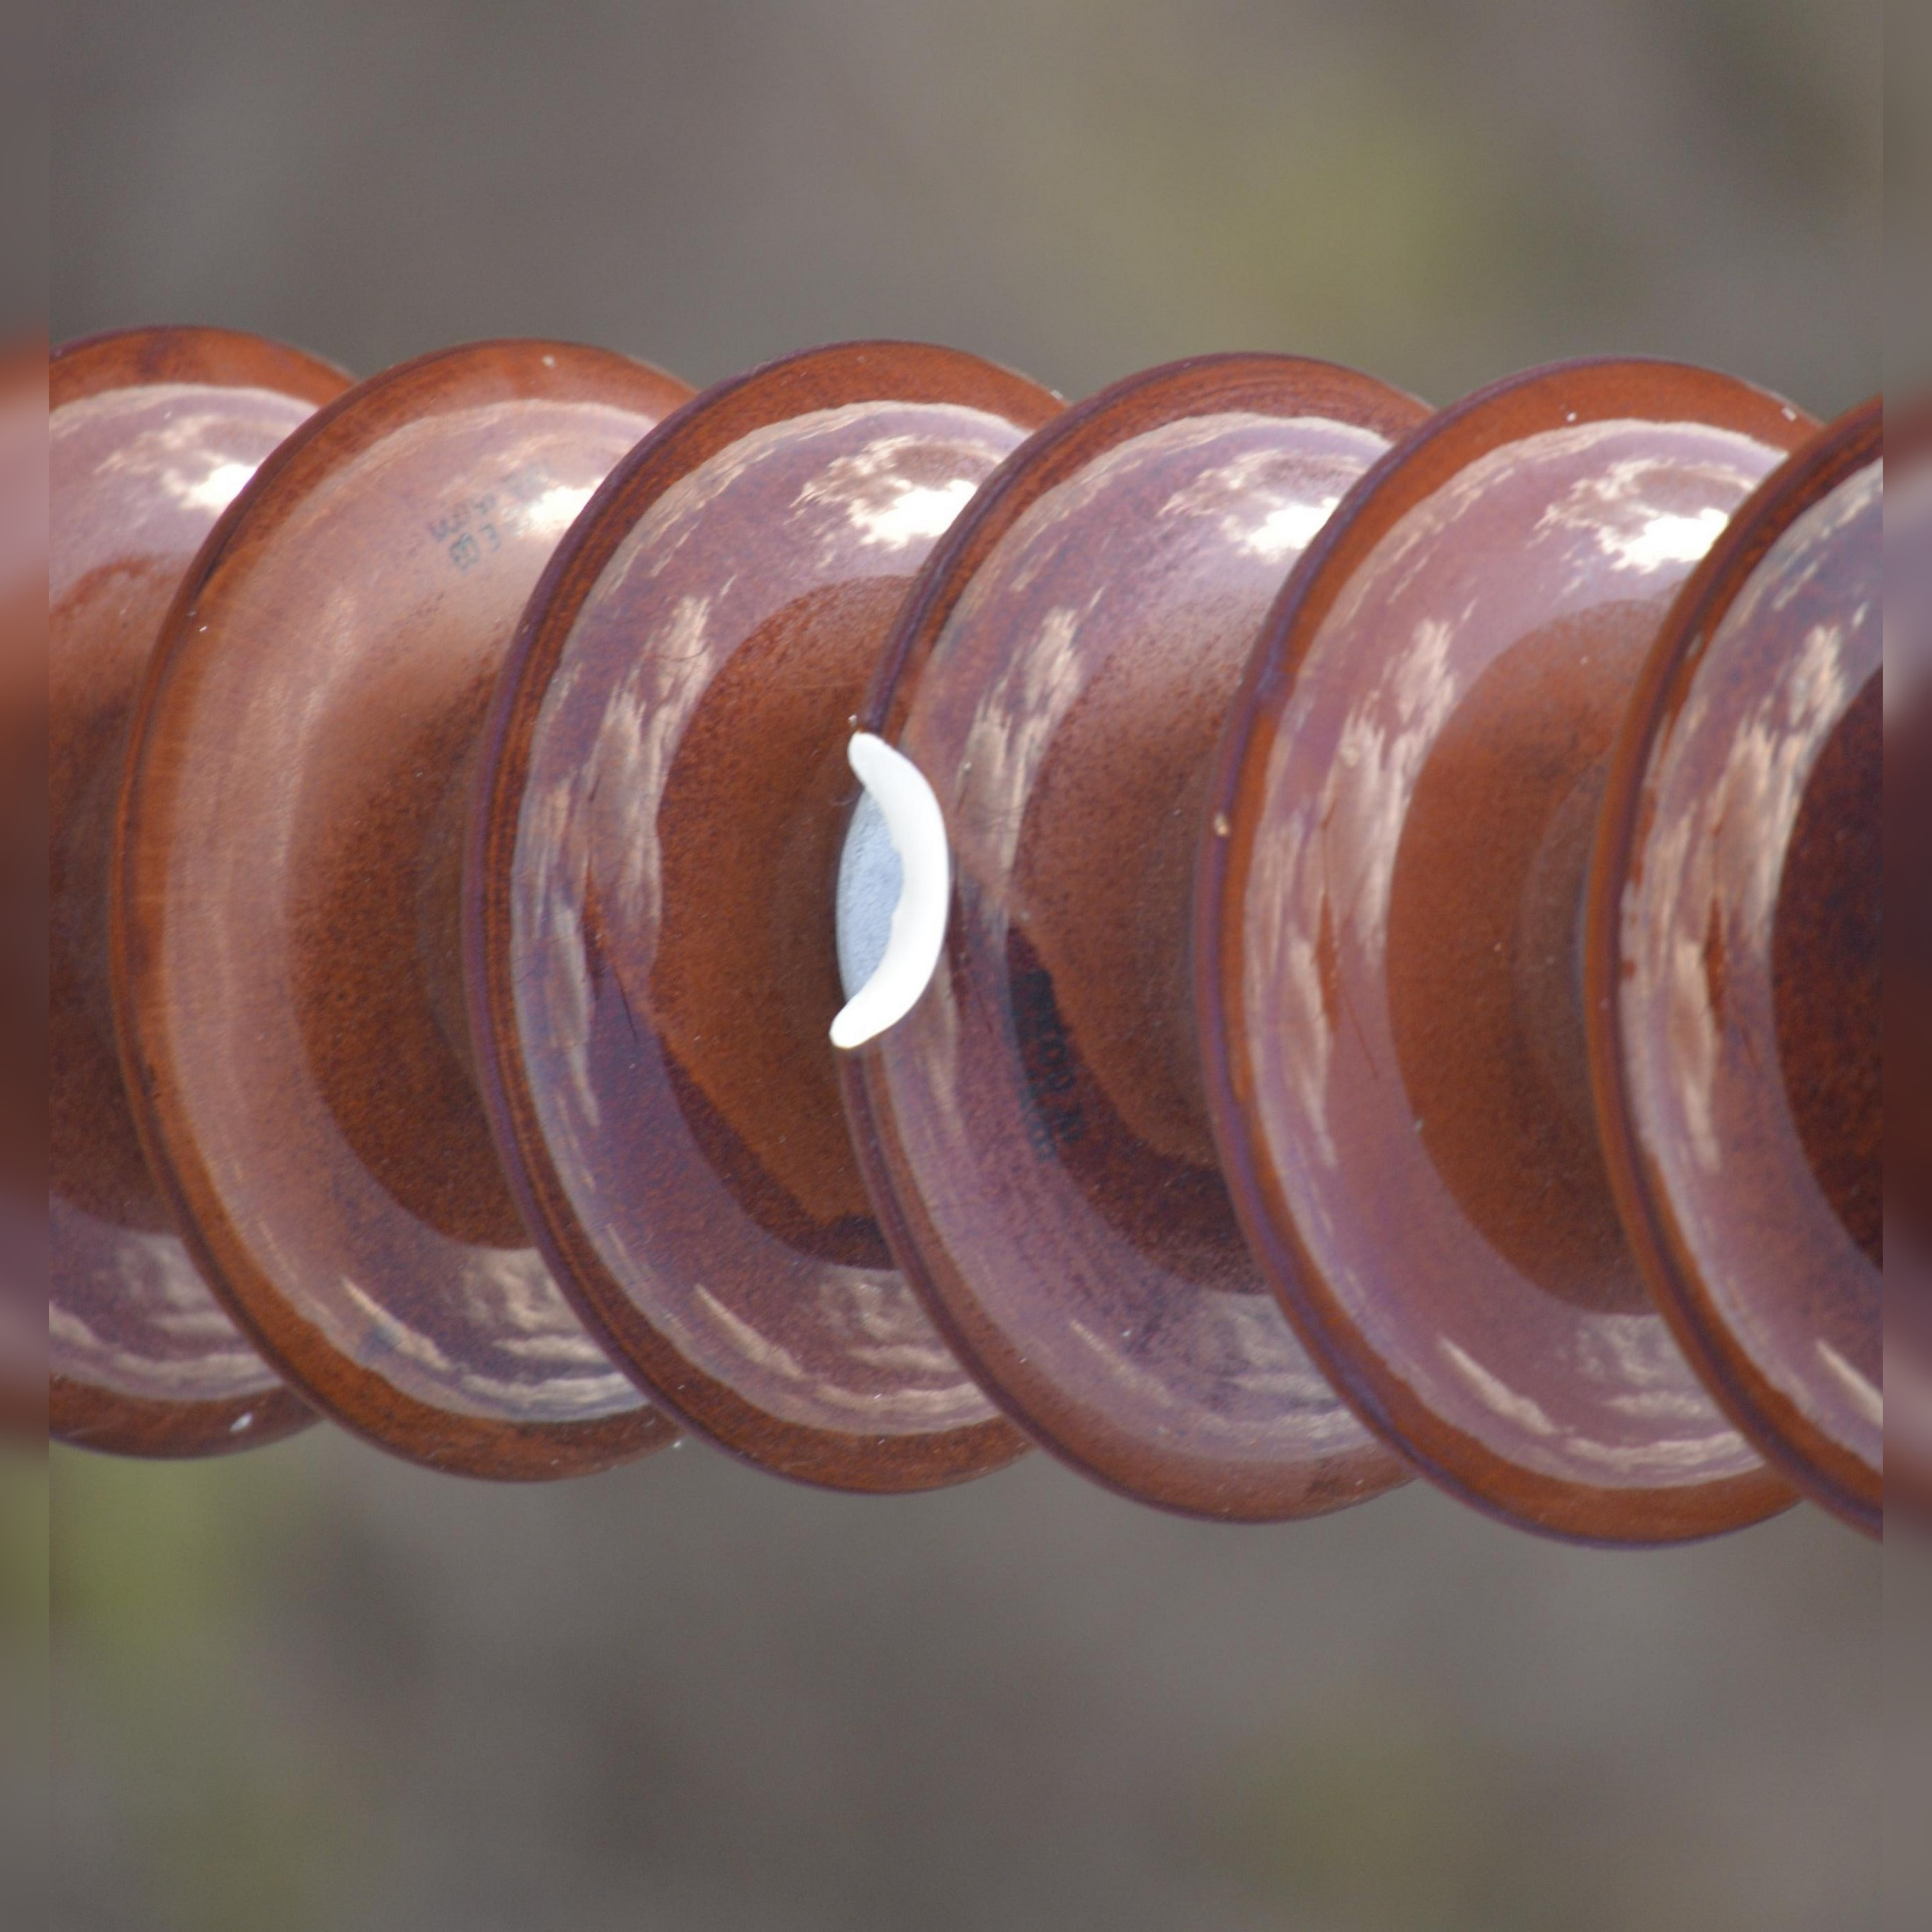insulator breakage: (789, 354, 1405, 1536)
